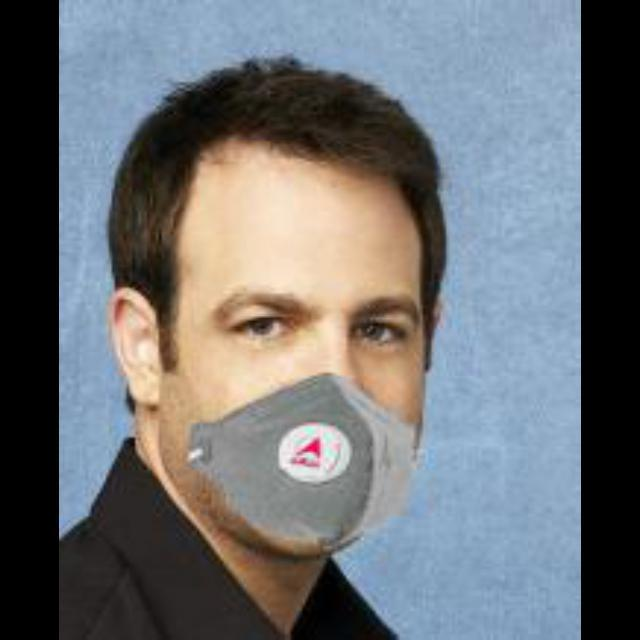suspicion: (84, 50, 472, 566)
